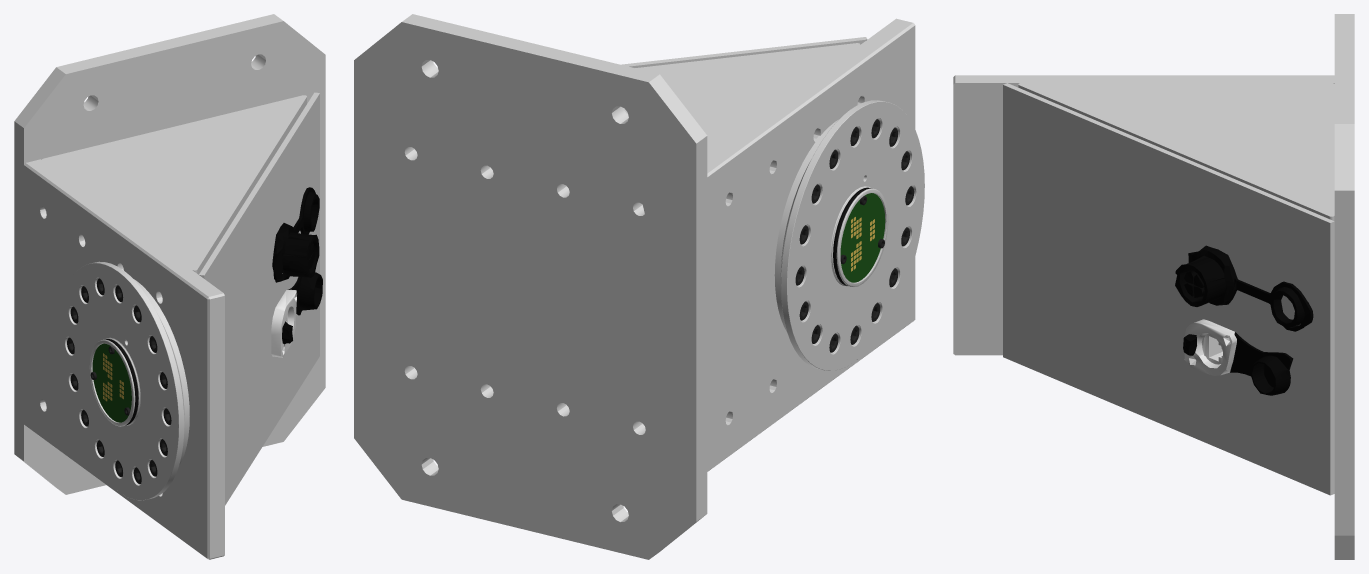
The model's file is B148-90deg.glb.
3 views of the same model, side by side, from view 1: azimuth 30°, elevation 25°; view 2: azimuth 150°, elevation 25°; view 3: azimuth 270°, elevation 25° (orthographic). The views are drawn at different scales.
Parts seen in each view (by area): view 1: B148-90deg; view 2: B148-90deg; view 3: B148-90deg.
Part boxes in pixels (bbox=[...]): B148-90deg: bbox=[14, 14, 325, 559]; B148-90deg: bbox=[354, 14, 924, 559]; B148-90deg: bbox=[953, 14, 1354, 559].
Bounding box in the file's own units: 0.1956 × 0.24 × 0.2003.
